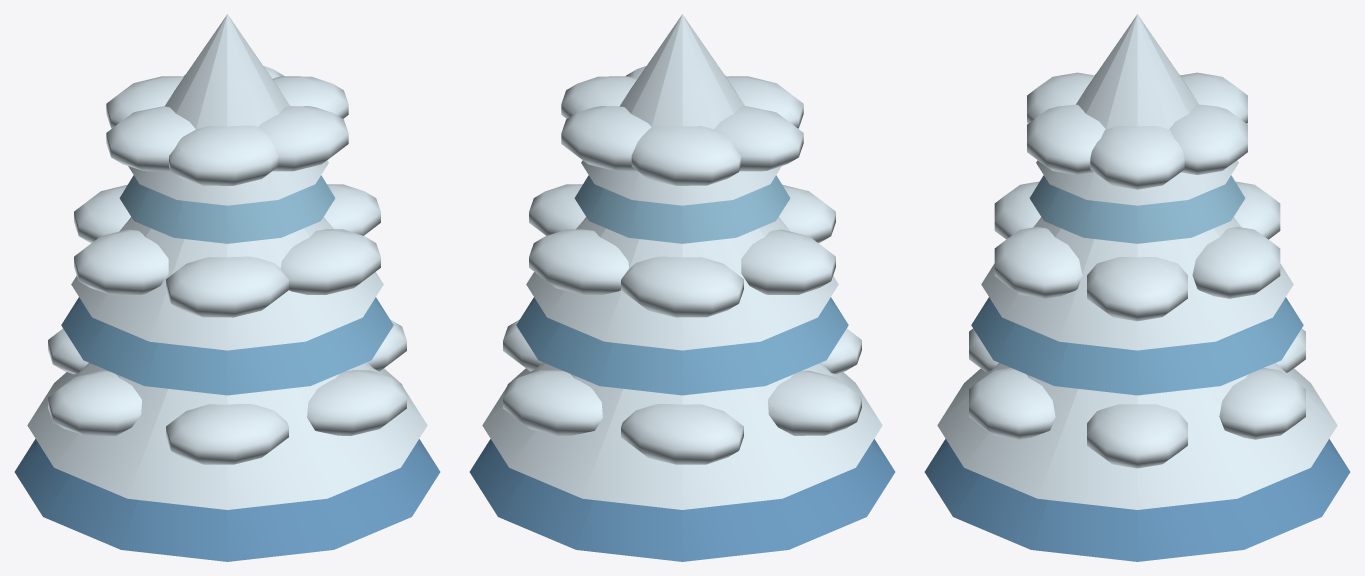
Rendered from reference_pine_small.glb.
The picture shows the model from 3 angles, left to right: view 1: azimuth 30°, elevation 25°; view 2: azimuth 150°, elevation 25°; view 3: azimuth 270°, elevation 25°; orthographic projection.
Visible parts, largest first — view 1: n2930, n2929, n2938, n2937, n2946, n2945, n2941, n2933, n2949, n2932, n2940, n2942 (+9 smaller); view 2: n2930, n2929, n2938, n2937, n2946, n2945, n2943, n2935, n2951, n2936, n2944, n2942 (+9 smaller); view 3: n2930, n2929, n2938, n2937, n2946, n2945, n2939, n2931, n2947, n2940, n2944, n2932 (+9 smaller).
Part boxes in pixels (box(x1,y1,x2,y2)): n2930: box(27, 362, 427, 509); n2929: box(14, 439, 440, 561); n2938: box(71, 217, 383, 350); n2937: box(61, 297, 393, 395); n2946: box(128, 14, 328, 205); n2945: box(119, 175, 335, 243); n2941: box(166, 256, 288, 317); n2933: box(166, 404, 288, 464); n2949: box(169, 125, 278, 185); n2932: box(307, 370, 406, 435); n2940: box(280, 229, 380, 294); n2942: box(74, 229, 168, 294); n2930: box(482, 362, 882, 509); n2929: box(469, 439, 895, 561); n2938: box(526, 217, 838, 350); n2937: box(516, 297, 848, 395); n2946: box(581, 14, 781, 205); n2945: box(574, 175, 790, 243); n2943: box(621, 256, 743, 317); n2935: box(621, 404, 743, 464); n2951: box(631, 125, 740, 185); n2936: box(503, 370, 602, 435); n2944: box(529, 229, 629, 294); n2942: box(741, 229, 835, 294); n2930: box(937, 363, 1337, 509); n2929: box(924, 439, 1350, 561); n2938: box(981, 217, 1293, 350); n2937: box(971, 297, 1303, 395); n2946: box(1036, 14, 1238, 205); n2945: box(1029, 175, 1245, 243); n2939: box(1087, 257, 1187, 321); n2931: box(1087, 404, 1187, 468); n2947: box(1090, 126, 1184, 189); n2940: box(994, 227, 1082, 298); n2944: box(1192, 227, 1280, 298); n2932: box(969, 368, 1055, 439).
Size of the model in its own units: 1.02 by 1.34 by 1.02.
